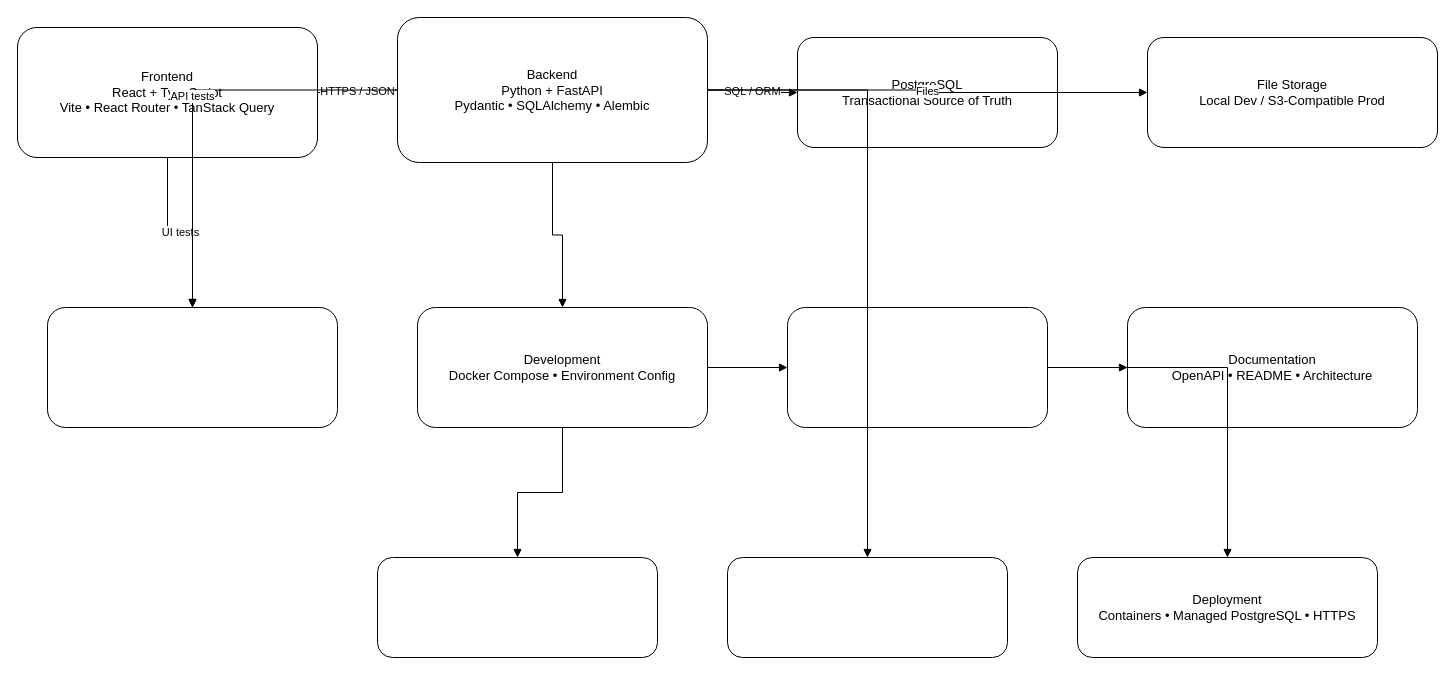
Image size: 1455x675. Some labels were removed from this diagram. Each missing label, with the box of its shape:
CI GitHub Actions Lint • Test • Build: (786, 306, 1048, 428)
Observability Structured Logs • Request IDs: (376, 556, 658, 658)
Security Argon2id • Secure Cookies CSRF • RBAC: (726, 556, 1008, 658)
Testing Pytest • Vitest/RTL • Playwright: (46, 306, 338, 428)
